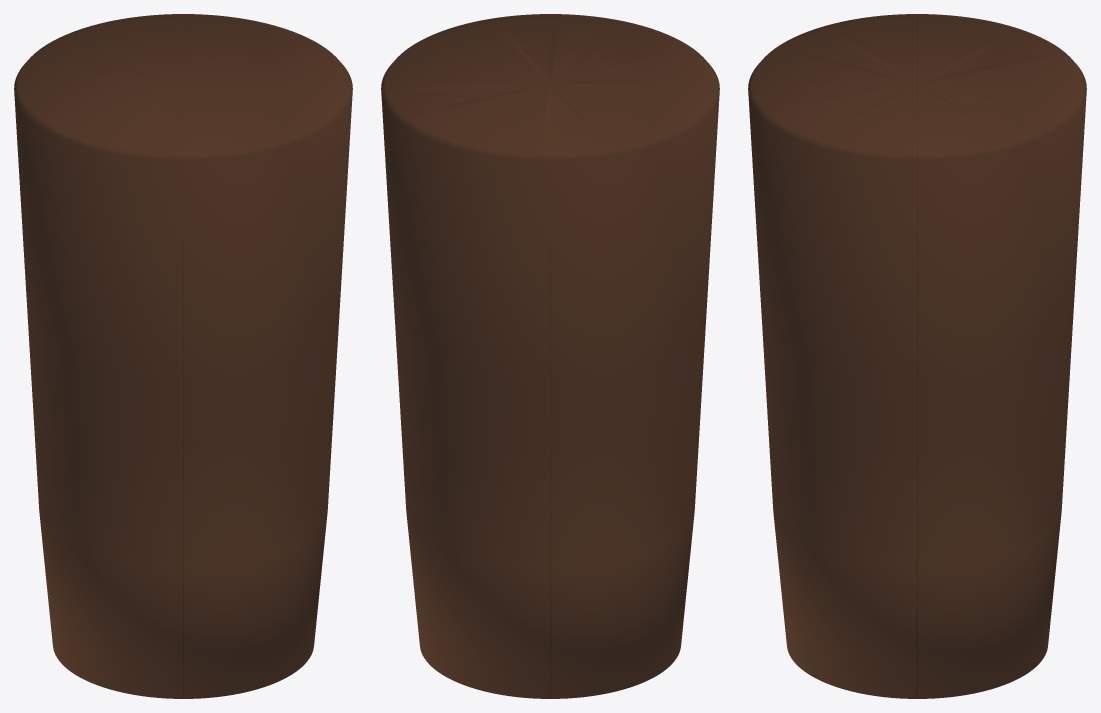
File: sweet-coldbrew.glb
3 views of the same model, side by side, from view 1: azimuth 30°, elevation 25°; view 2: azimuth 150°, elevation 25°; view 3: azimuth 270°, elevation 25° (orthographic).
Visible parts, largest first — view 1: coldbrew liquid volume; view 2: coldbrew liquid volume; view 3: coldbrew liquid volume.
Part boxes in pixels (bbox=[...]): coldbrew liquid volume: bbox=[14, 14, 352, 698]; coldbrew liquid volume: bbox=[381, 14, 719, 698]; coldbrew liquid volume: bbox=[748, 14, 1086, 698].
Bounding box in the file's own units: 1.3 × 2.36 × 1.3.
